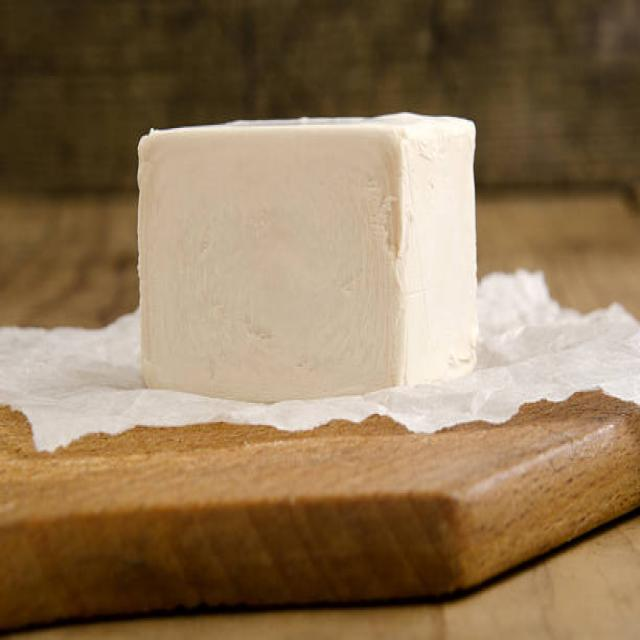Tofu Block: (134, 112, 482, 395)
